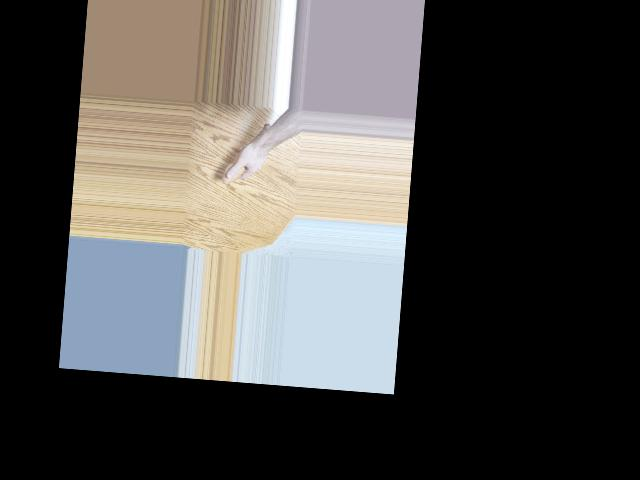sweet_potato: (221, 121, 270, 188)
